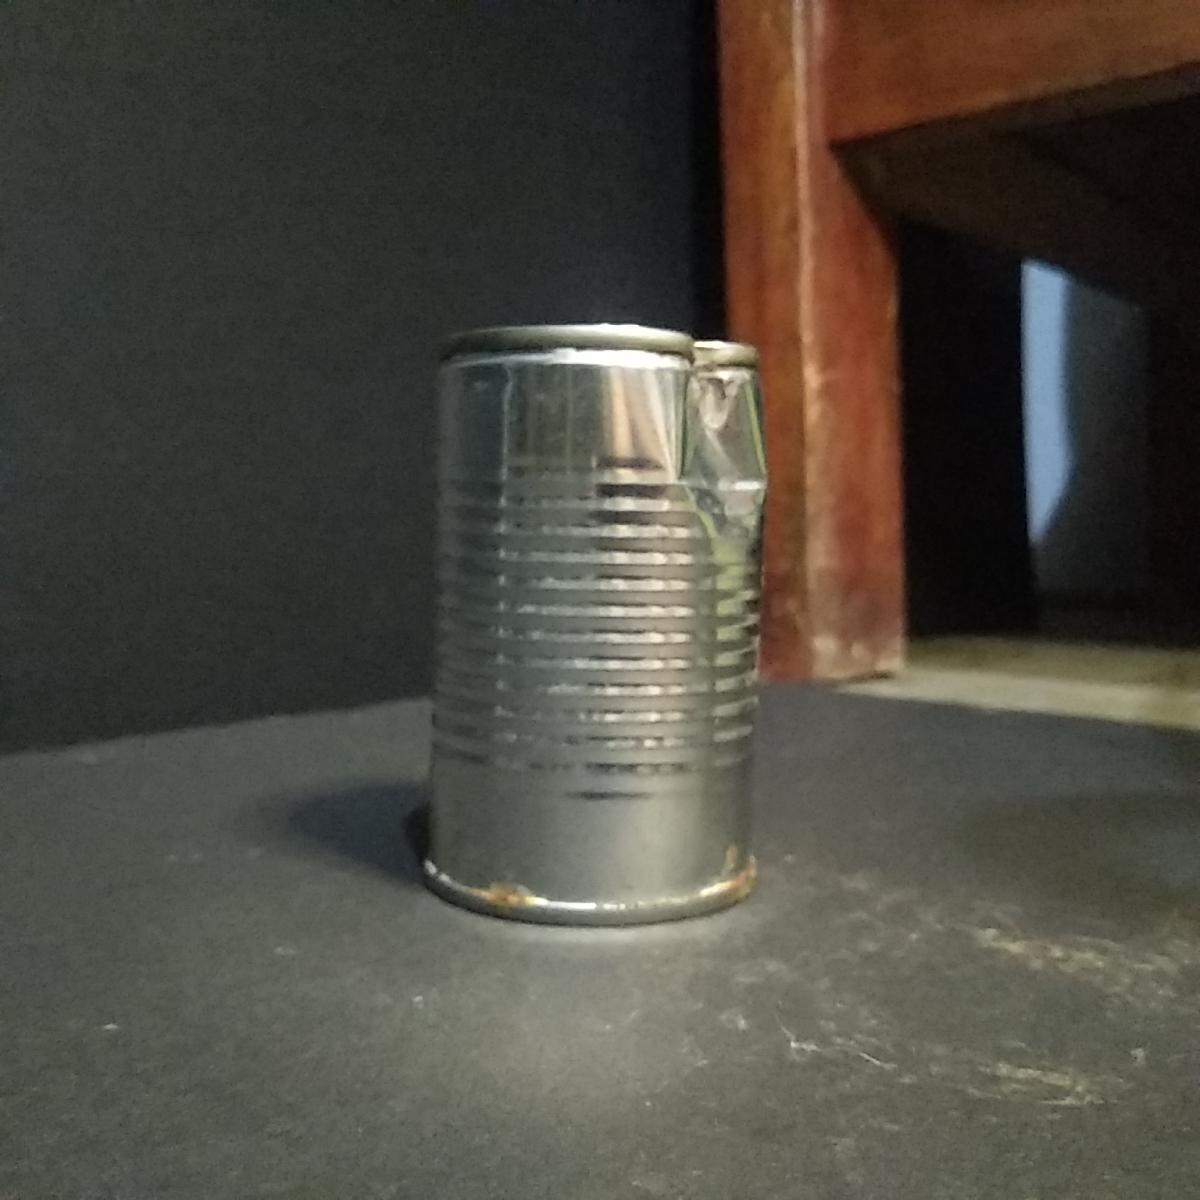Dented: (402, 314, 790, 932)
